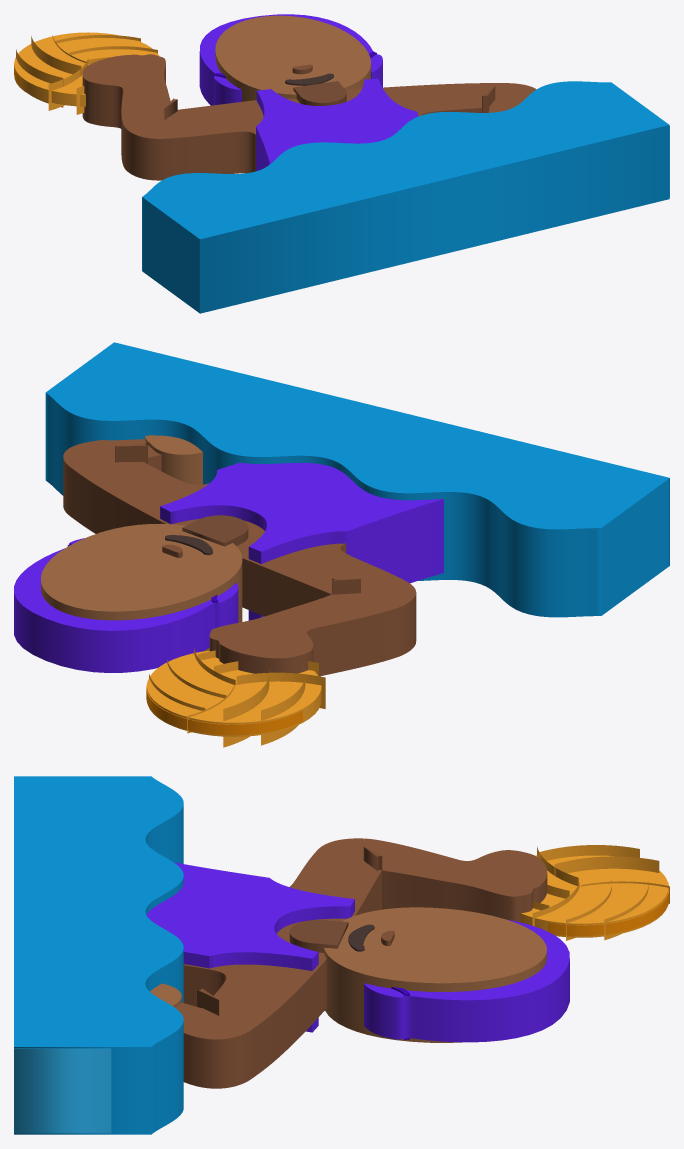
The model's file is emoji_u1f93d_1f3fe_200d_2640.glb.
3 renders of one model, top to bottom at view 1: azimuth 30°, elevation 25°; view 2: azimuth 150°, elevation 25°; view 3: azimuth 270°, elevation 25°, orthographic. The views are drawn at different scales.
Parts seen in each view (by area): view 1: emoji_u1f93d_1f3fe_200d_2640; view 2: emoji_u1f93d_1f3fe_200d_2640; view 3: emoji_u1f93d_1f3fe_200d_2640.
Boxes of the visible parts, bbox=[...] form: emoji_u1f93d_1f3fe_200d_2640: bbox=[14, 14, 669, 313]; emoji_u1f93d_1f3fe_200d_2640: bbox=[14, 342, 669, 747]; emoji_u1f93d_1f3fe_200d_2640: bbox=[14, 776, 669, 1134].
Bounding box in the file's own units: 0.0331 × 0.005 × 0.0338.
